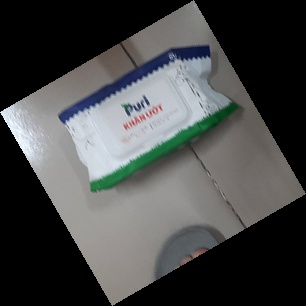Puri Trang: (56, 44, 240, 193)
